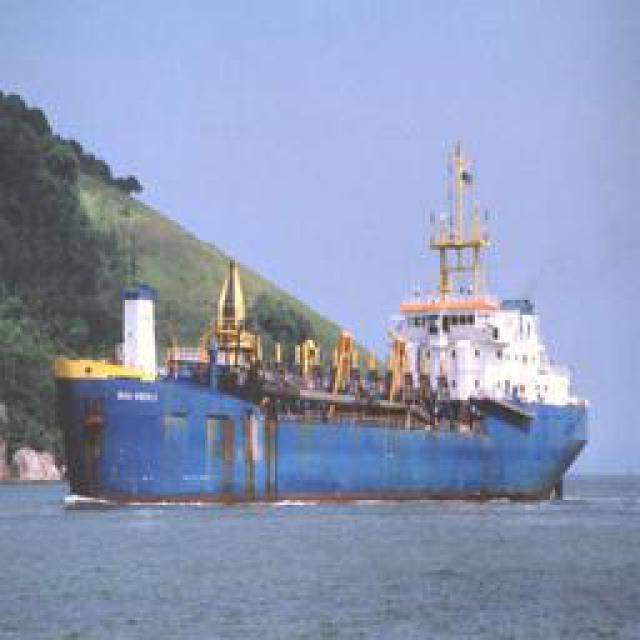Ship: (280, 136, 585, 506)
